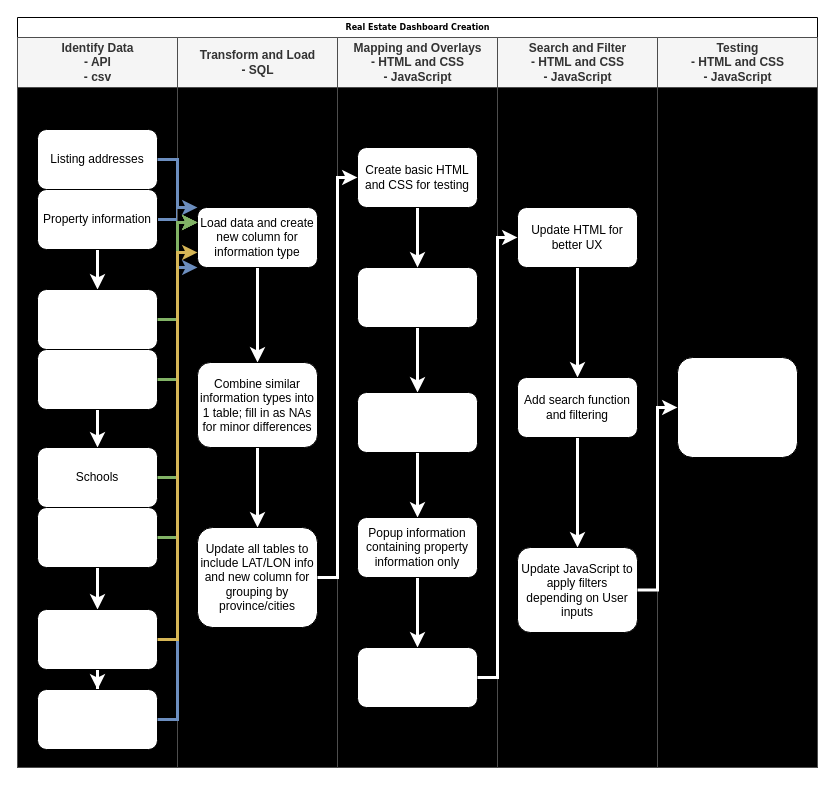
The diagram is 835 pixels wide and 785 high, and some of its shapes have lost their labels. Each missing label, with the centre of its shape:
Average weather: (x=97, y=719)
Banks: (x=97, y=639)
Ensure information is accurate and dashboard is working as intended: (x=737, y=407)
Grocery Stores: (x=97, y=379)
Other POIs popups will only have name and address: (x=417, y=677)
POIs overlays with dropdown selection: (x=417, y=422)
Public Transport: (x=97, y=319)
Restaurants: (x=97, y=537)
Street view base layer: (x=417, y=297)
